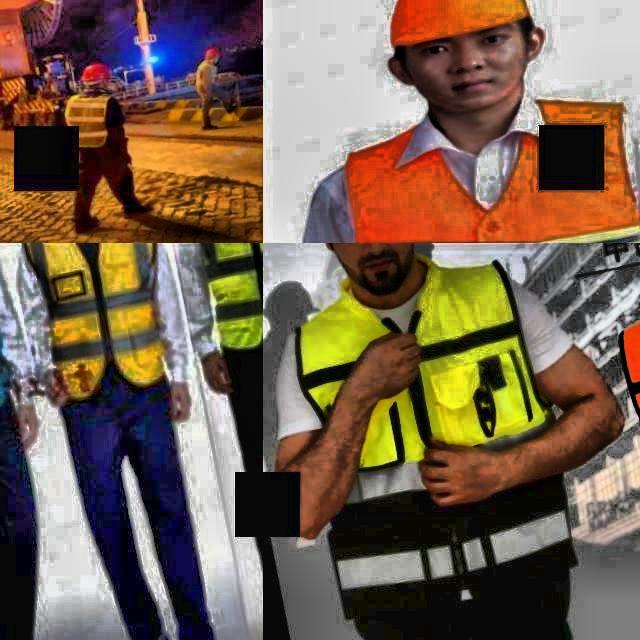safety_jacket: (277, 243, 567, 516), (296, 75, 640, 243), (12, 243, 189, 410), (183, 243, 263, 357), (56, 91, 126, 161)
